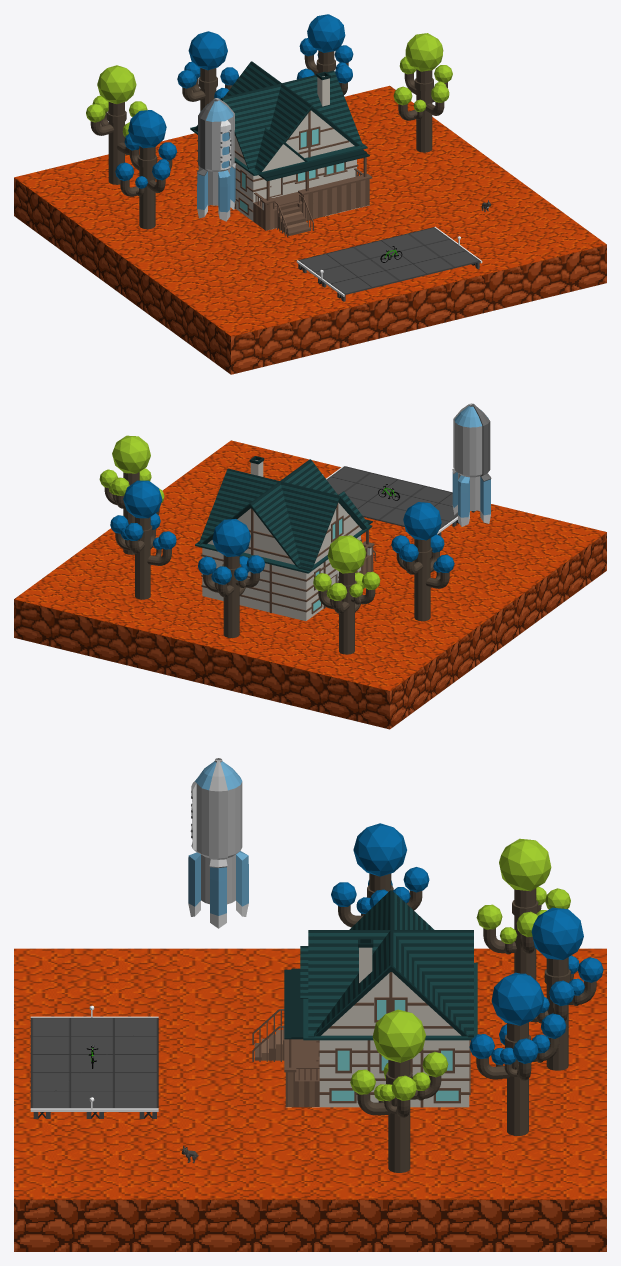
The picture shows the model from 3 angles, top to bottom: view 1: azimuth 30°, elevation 25°; view 2: azimuth 150°, elevation 25°; view 3: azimuth 270°, elevation 25°; orthographic projection. The views are drawn at different scales.
Parts seen in each view (by area): view 1: Cube.001, Cube.793, OBJRANDOM_ROCKETSHIP; view 2: Cube.001, Cube.793, OBJRANDOM_ROCKETSHIP; view 3: Cube.001, Cube.793, OBJRANDOM_ROCKETSHIP.
Part boxes in pixels (box(x1,y1,x2,y2)): Cube.001: box(14, 14, 606, 374); Cube.793: box(190, 61, 372, 236); OBJRANDOM_ROCKETSHIP: box(197, 98, 235, 221); Cube.001: box(14, 435, 606, 729); Cube.793: box(195, 456, 375, 621); OBJRANDOM_ROCKETSHIP: box(452, 403, 491, 526); Cube.001: box(14, 823, 606, 1251); Cube.793: box(252, 890, 477, 1107); OBJRANDOM_ROCKETSHIP: box(188, 758, 248, 928).
Bounding box in the file's own units: 4000 × 2126 × 4000.
29 materials, 6 textured.
